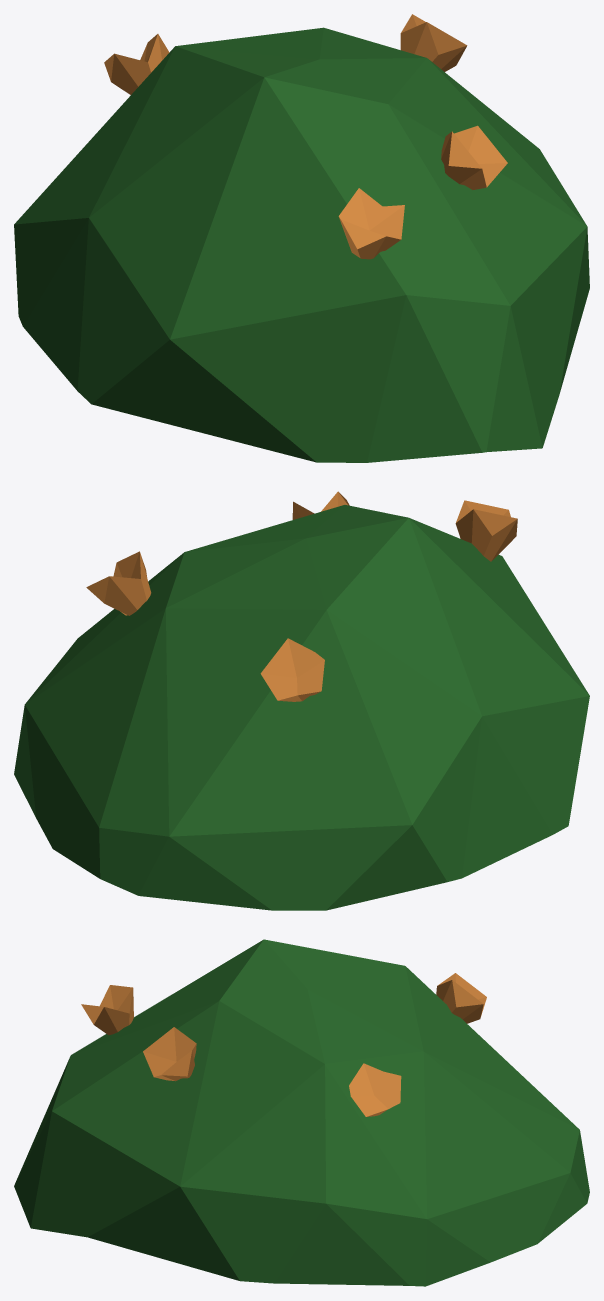
The model's file is Bush2.3.fbx.
3 renders of one model, top to bottom at view 1: azimuth 30°, elevation 25°; view 2: azimuth 150°, elevation 25°; view 3: azimuth 270°, elevation 25°, orthographic. The views are drawn at different scales.
Parts seen in each view (by area): view 1: Bush2.3; view 2: Bush2.3; view 3: Bush2.3.
Part boxes in pixels (x1,y1,x2,y2): Bush2.3: (14,14,589,462); Bush2.3: (14,491,589,910); Bush2.3: (14,939,589,1286).
Bounding box in the file's own units: 122 × 69.62 × 153.
